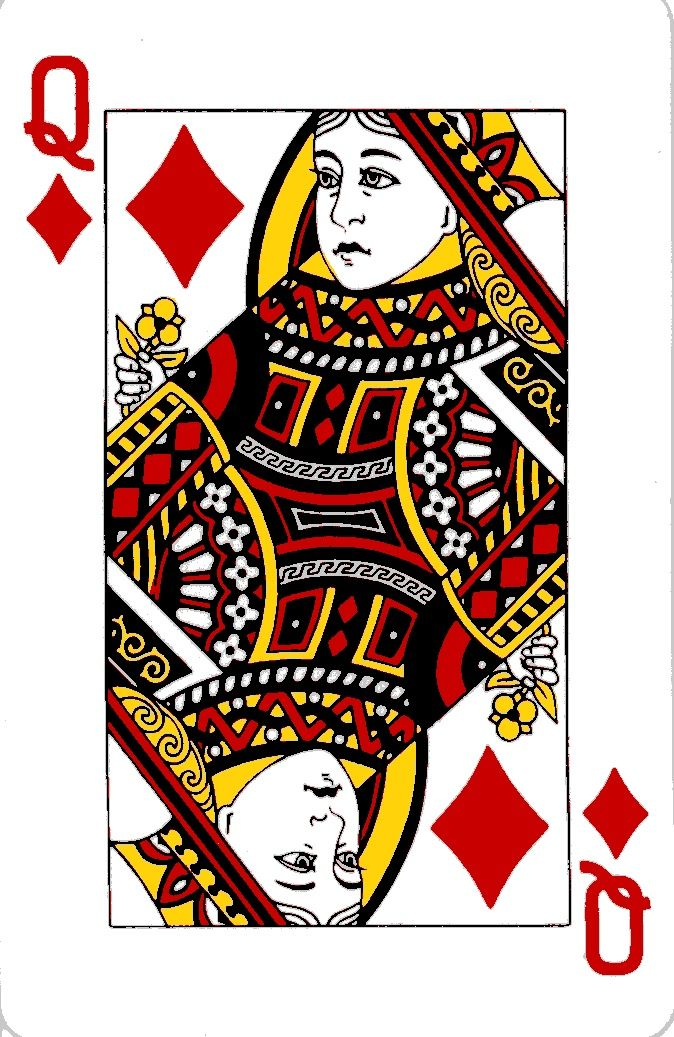queen of diamonds: (5, 30, 674, 991)
